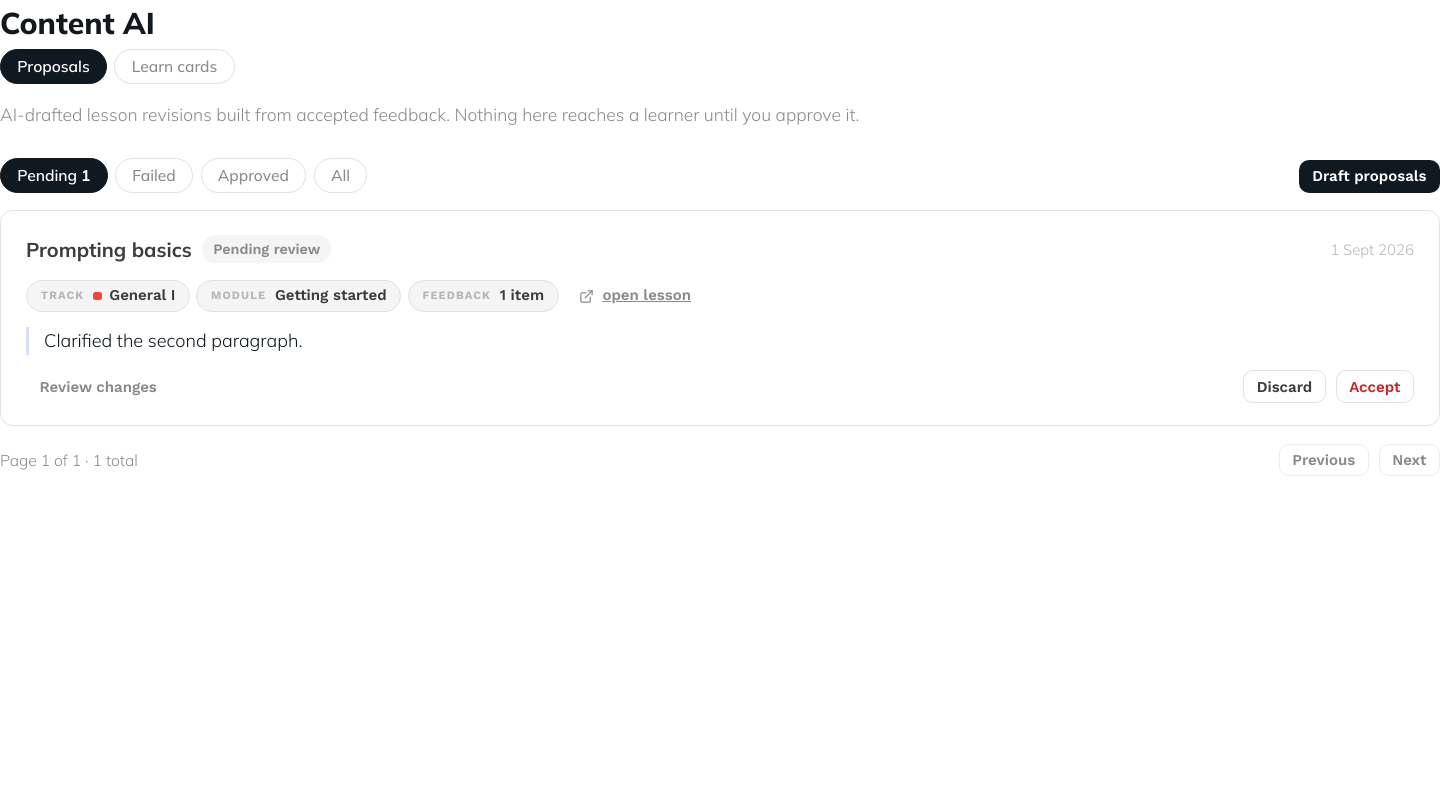
Scenario: ProposalRow unsaved-changes guard › keeps guarding after "Back to comparison": the edited draft is still what Accept submits
Click the button "Review changes" at (98, 387), box [26,370,170,403]
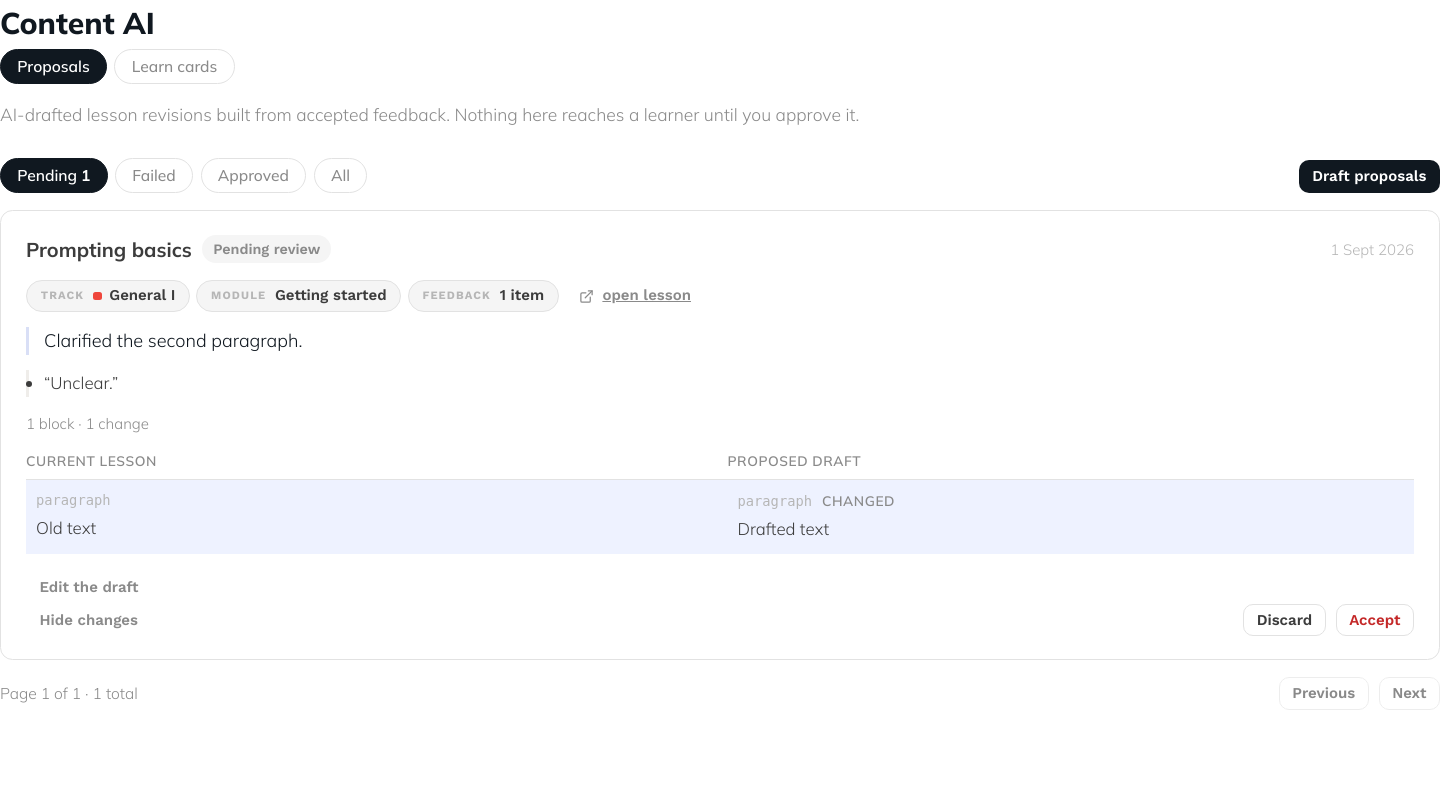
Click the button "Edit the draft" at (89, 587), box [26,571,152,604]
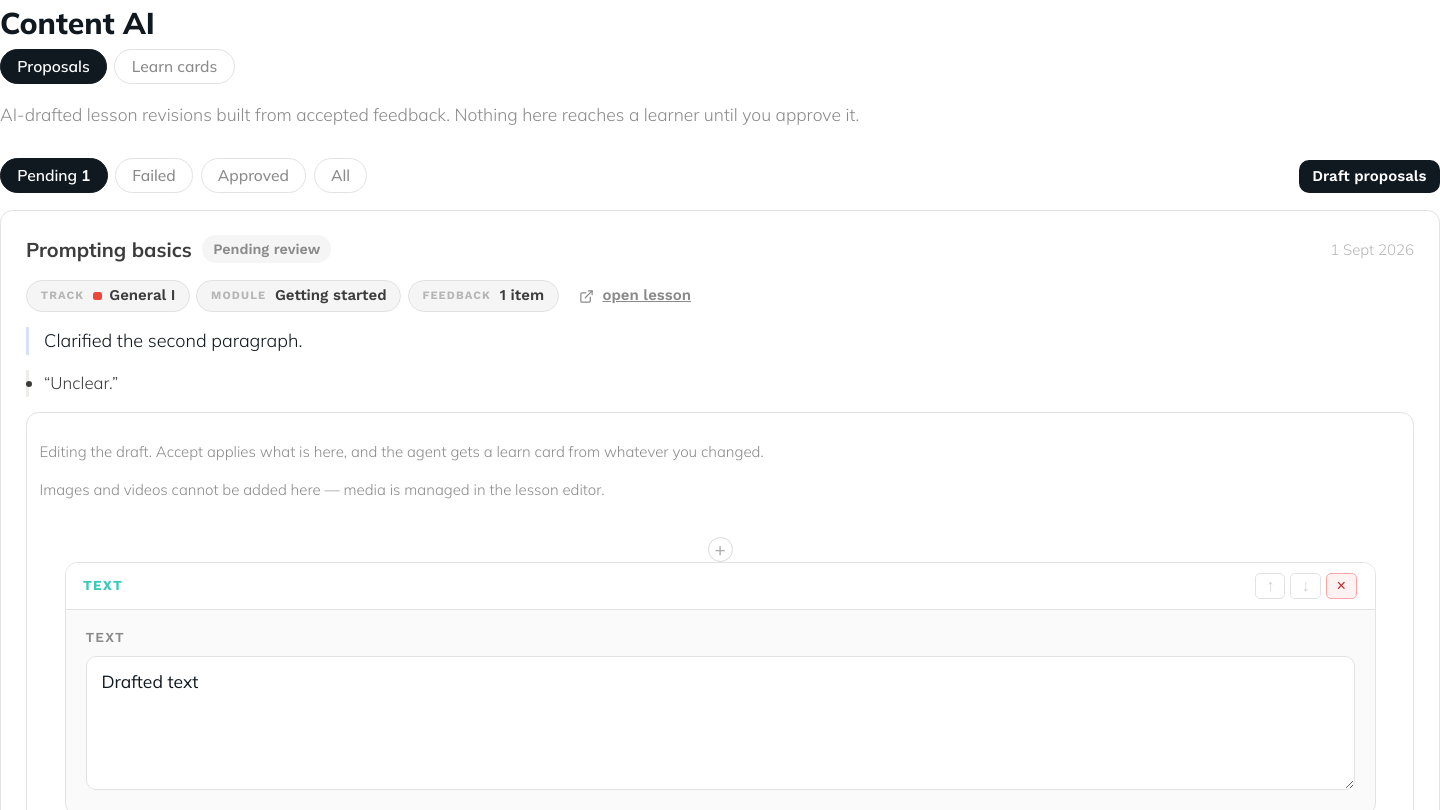
Replace the text in the text box showing "Drafted text" with "My better text" at (720, 723), box [86,656,1354,790]
(page scrolled)
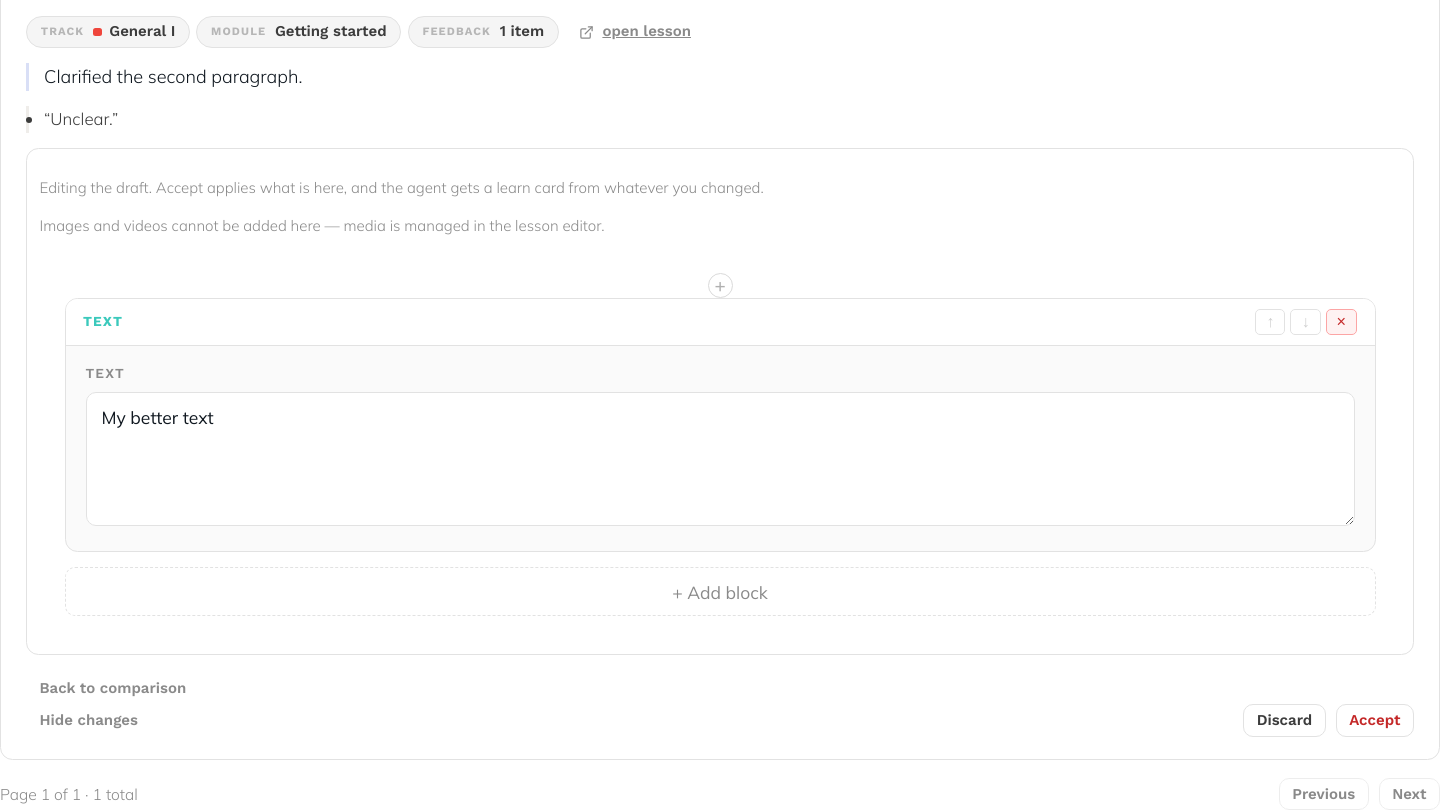
Click the button "Back to comparison" at (113, 688), box [26,672,200,704]
(page scrolled)
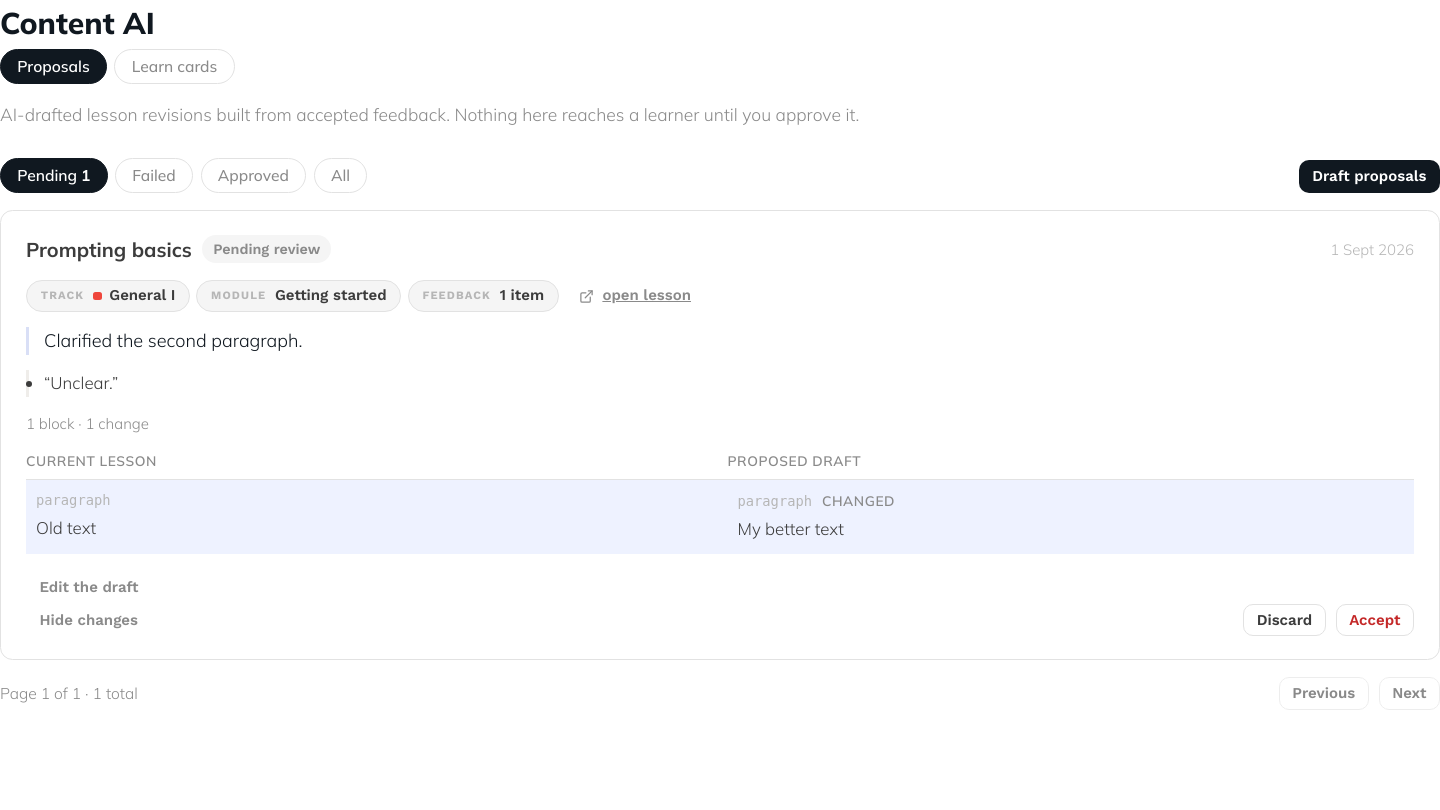
Expected: the button "Edit the draft" is shown, [26,571,152,604]
